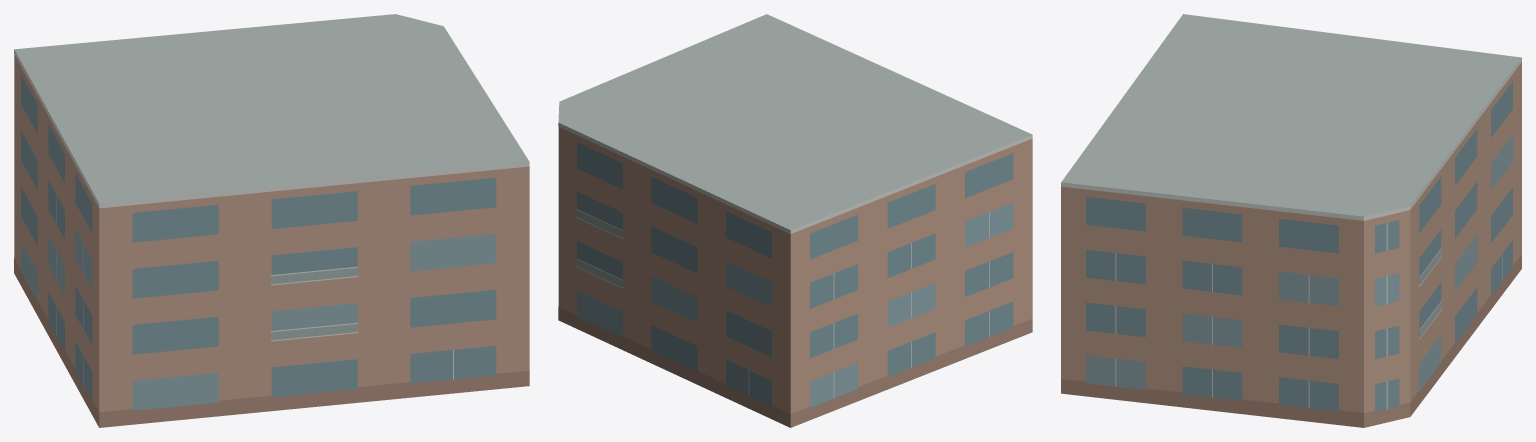
The model's file is survey-upis-32871915.glb.
3 renders of one model, left to right at view 1: azimuth 30°, elevation 25°; view 2: azimuth 150°, elevation 25°; view 3: azimuth 270°, elevation 25°, orthographic. The views are drawn at different scales.
Visible parts, largest first — view 1: survey-upis-32871915.tmp; view 2: survey-upis-32871915.tmp; view 3: survey-upis-32871915.tmp.
Part boxes in pixels (box(x1,y1,x2,y2)): survey-upis-32871915.tmp: box(14, 14, 529, 427); survey-upis-32871915.tmp: box(558, 14, 1032, 427); survey-upis-32871915.tmp: box(1061, 14, 1521, 427).
Size of the model in its own units: 24.69 by 12 by 23.72.
